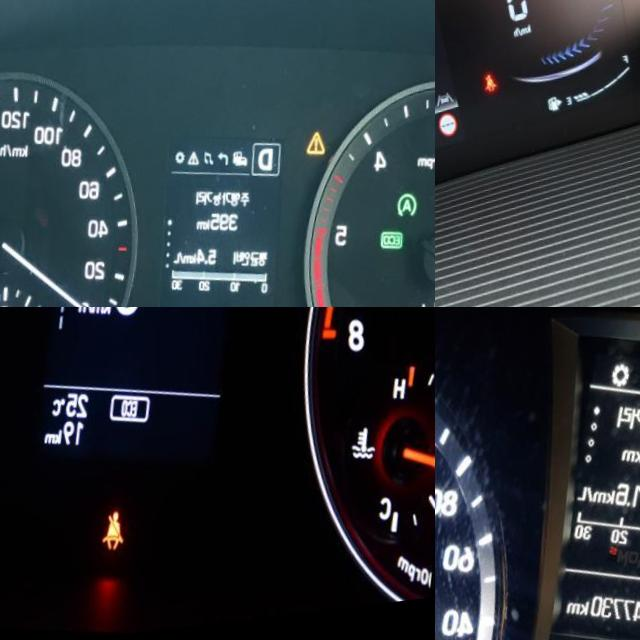Central Warning lamp: (303, 138, 327, 168)
LaneCenteringOff: (435, 98, 451, 115)
